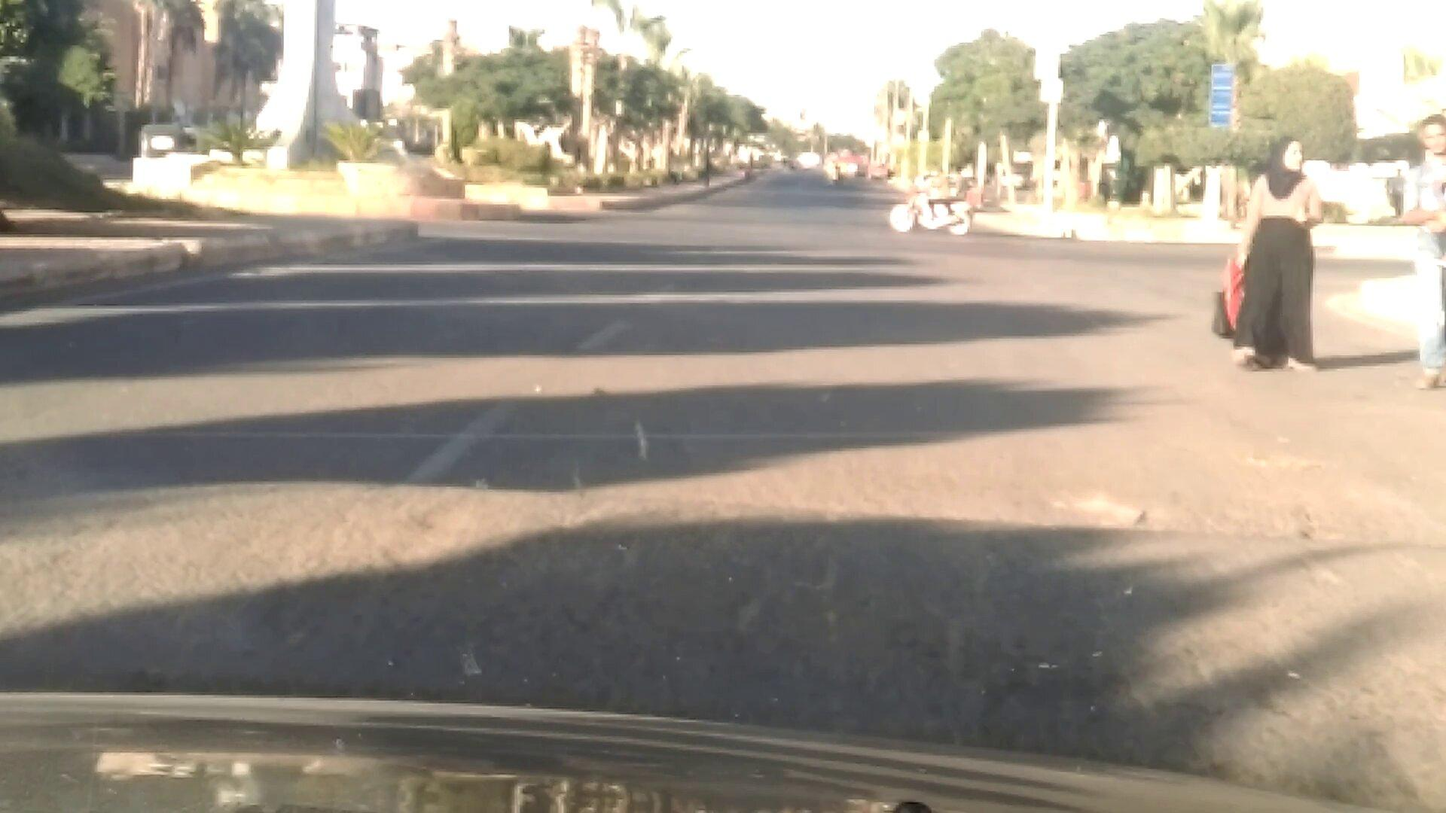Pothole: (712, 563, 1175, 762)
